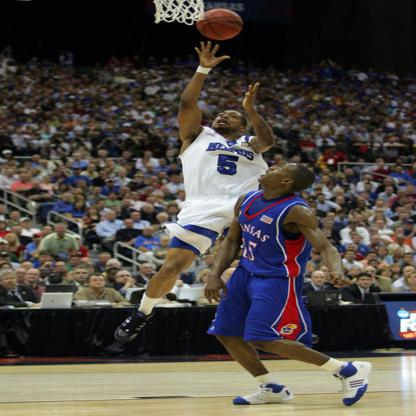face: (258, 164, 294, 184), (212, 111, 243, 130), (3, 275, 18, 288), (313, 273, 327, 286), (74, 270, 89, 282), (90, 277, 106, 288), (319, 267, 333, 279), (118, 274, 133, 284), (28, 270, 40, 282), (364, 269, 377, 280), (15, 271, 27, 282), (68, 272, 80, 283), (360, 278, 372, 288), (143, 265, 155, 275), (405, 268, 416, 278), (57, 263, 68, 273), (56, 226, 68, 235), (110, 271, 120, 281), (203, 273, 213, 283), (50, 275, 61, 284), (160, 238, 171, 247), (38, 268, 48, 277), (102, 255, 112, 264), (382, 270, 393, 278), (12, 228, 23, 236), (71, 258, 80, 267), (316, 254, 326, 262), (369, 254, 379, 262), (400, 215, 410, 223), (336, 198, 346, 206), (2, 256, 12, 264), (2, 265, 12, 273), (41, 256, 51, 264), (35, 235, 45, 243), (44, 228, 54, 236), (87, 267, 97, 275), (131, 214, 141, 222), (158, 216, 168, 224), (206, 258, 216, 266), (21, 221, 32, 228), (23, 264, 34, 271), (110, 263, 121, 270), (405, 255, 414, 263), (347, 252, 355, 261), (370, 262, 379, 270), (347, 246, 356, 254), (357, 223, 366, 231), (12, 213, 21, 221), (63, 194, 72, 202), (144, 207, 153, 215), (144, 228, 153, 236), (409, 275, 416, 285), (396, 237, 406, 244), (375, 222, 385, 229), (77, 195, 87, 202), (75, 202, 85, 209), (124, 221, 134, 228), (350, 222, 358, 230), (100, 173, 108, 181), (108, 213, 116, 221), (306, 267, 315, 274), (352, 269, 361, 276), (379, 249, 388, 256), (324, 222, 333, 229), (325, 238, 334, 245), (8, 236, 17, 243), (75, 189, 84, 196), (112, 208, 121, 215), (131, 194, 140, 201), (169, 208, 178, 215), (400, 198, 410, 204), (322, 230, 332, 236), (327, 214, 337, 220), (275, 156, 285, 162), (89, 209, 99, 215), (372, 238, 380, 245), (396, 229, 404, 236), (407, 187, 415, 194), (386, 188, 394, 195), (301, 192, 309, 199), (359, 202, 367, 209), (364, 176, 372, 183), (167, 151, 175, 158), (106, 159, 114, 166), (151, 177, 159, 184), (2, 244, 10, 251), (93, 189, 101, 196), (98, 202, 106, 209), (123, 201, 131, 208), (147, 198, 155, 205), (152, 225, 160, 232), (179, 193, 187, 200), (391, 267, 400, 273), (404, 206, 413, 212), (314, 190, 323, 196), (368, 230, 377, 236), (73, 155, 82, 161), (134, 177, 143, 183), (120, 189, 129, 195), (55, 139, 64, 145), (354, 237, 361, 244), (407, 224, 414, 231), (384, 179, 391, 186), (318, 197, 325, 204), (362, 194, 369, 201), (339, 212, 346, 219), (153, 183, 160, 190), (398, 209, 406, 215), (366, 186, 374, 192), (395, 167, 403, 173), (81, 153, 89, 159), (89, 166, 97, 172), (92, 161, 100, 167), (22, 171, 30, 177), (109, 194, 117, 200), (172, 178, 180, 184), (396, 250, 403, 256), (399, 192, 406, 198), (343, 186, 350, 192), (309, 199, 316, 205), (336, 192, 343, 198), (377, 210, 384, 216), (356, 217, 363, 223), (378, 162, 385, 168), (142, 135, 149, 141), (7, 171, 14, 177), (21, 175, 28, 181), (33, 156, 40, 162), (41, 162, 48, 168), (59, 167, 66, 173), (74, 169, 81, 175), (119, 171, 126, 177), (8, 127, 15, 133), (25, 164, 32, 170), (160, 160, 167, 166), (171, 165, 178, 171), (33, 183, 40, 189), (61, 186, 68, 192), (80, 183, 87, 189), (1, 223, 7, 230), (322, 179, 330, 184), (316, 185, 324, 190), (376, 202, 384, 207), (376, 216, 384, 221), (350, 233, 358, 238), (353, 212, 361, 217), (322, 171, 330, 176), (53, 172, 61, 177), (98, 152, 106, 157), (125, 165, 133, 170), (107, 183, 115, 188), (396, 159, 402, 165), (161, 173, 167, 179), (341, 180, 348, 185), (309, 204, 316, 209), (347, 171, 354, 176), (292, 157, 299, 162), (305, 136, 312, 141), (283, 128, 290, 133), (136, 103, 143, 108), (125, 153, 132, 158), (10, 161, 17, 166), (66, 163, 73, 168), (45, 122, 52, 127), (148, 166, 155, 171), (163, 190, 170, 195), (328, 184, 334, 189), (321, 133, 327, 138), (168, 113, 174, 118), (45, 178, 51, 183), (104, 169, 110, 174), (17, 130, 23, 135), (27, 129, 33, 134), (78, 120, 84, 125), (96, 125, 102, 130), (122, 119, 128, 124), (27, 120, 33, 125), (18, 117, 24, 122), (90, 120, 96, 125), (95, 114, 101, 119), (115, 98, 121, 103), (311, 115, 317, 120), (146, 153, 152, 158), (292, 132, 299, 136), (359, 160, 364, 165), (287, 125, 292, 130), (337, 135, 342, 140), (377, 131, 382, 136), (408, 131, 413, 136), (331, 114, 336, 119), (380, 122, 385, 127), (138, 109, 143, 114), (173, 132, 178, 137), (131, 133, 136, 138), (62, 122, 67, 127), (146, 190, 151, 195), (76, 132, 81, 137), (30, 99, 35, 104), (61, 98, 66, 103), (91, 95, 96, 100), (101, 99, 106, 104), (330, 167, 336, 171), (329, 154, 335, 158), (331, 149, 337, 153), (283, 112, 289, 116), (390, 140, 396, 144), (388, 133, 394, 137), (127, 107, 133, 111), (151, 106, 157, 110), (143, 107, 149, 111), (164, 124, 170, 128), (6, 154, 12, 158), (46, 129, 52, 133), (109, 123, 117, 126), (108, 129, 114, 133), (113, 133, 119, 137), (19, 109, 25, 113), (45, 113, 51, 117), (28, 104, 34, 108), (20, 89, 26, 93), (77, 106, 83, 110), (85, 104, 91, 108), (103, 111, 109, 115), (279, 120, 284, 124), (297, 129, 302, 133), (312, 131, 317, 135), (357, 139, 362, 143), (349, 130, 354, 134), (341, 133, 346, 137), (354, 136, 359, 140), (361, 130, 366, 134), (371, 135, 375, 140), (403, 136, 408, 140), (322, 122, 327, 126), (327, 119, 332, 123), (353, 122, 357, 127), (149, 100, 154, 104), (145, 116, 150, 120), (140, 122, 145, 126), (163, 117, 168, 121), (18, 126, 23, 130), (53, 117, 58, 121), (56, 111, 61, 115), (23, 98, 28, 102), (45, 100, 50, 104), (44, 94, 49, 98), (68, 104, 73, 108), (119, 105, 124, 109), (71, 99, 76, 103), (85, 92, 90, 96), (309, 108, 314, 112), (347, 111, 352, 115), (386, 119, 391, 123), (301, 125, 305, 129), (398, 127, 402, 131), (363, 124, 367, 128), (129, 117, 133, 121), (154, 120, 158, 124), (70, 119, 74, 123), (37, 109, 41, 113), (32, 93, 36, 97), (36, 98, 40, 102), (103, 90, 107, 94), (72, 91, 76, 95), (327, 133, 332, 136), (323, 143, 328, 146), (346, 124, 351, 127), (330, 126, 335, 129), (315, 127, 320, 130), (159, 111, 164, 114), (31, 113, 36, 116), (272, 118, 276, 121), (297, 119, 301, 122), (338, 122, 341, 126), (132, 121, 136, 124), (96, 106, 100, 109)
